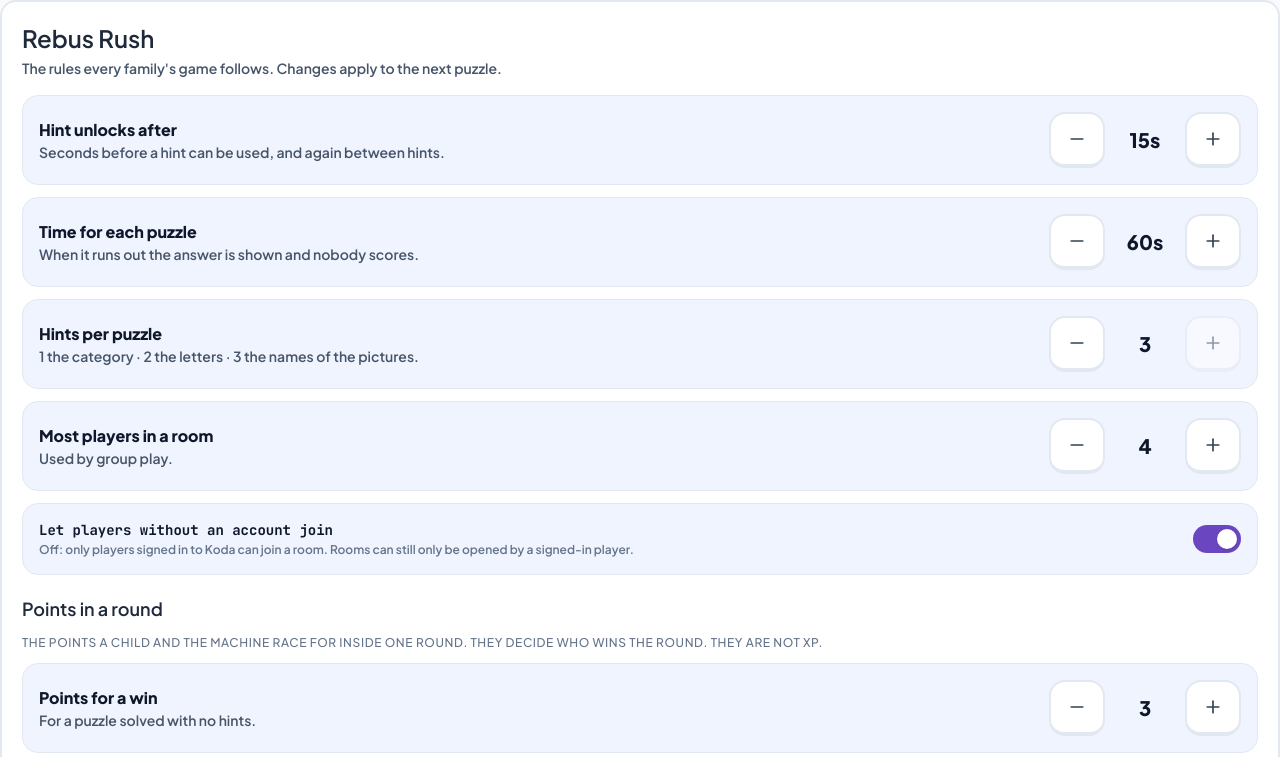
the group play controls and report › lets the owner close the door to guests and saves it
This screenshot has width=1280, height=757.
Click the switch named "Let players without an account join" at (1217, 539), box [1193,525,1241,553]
(page scrolled)
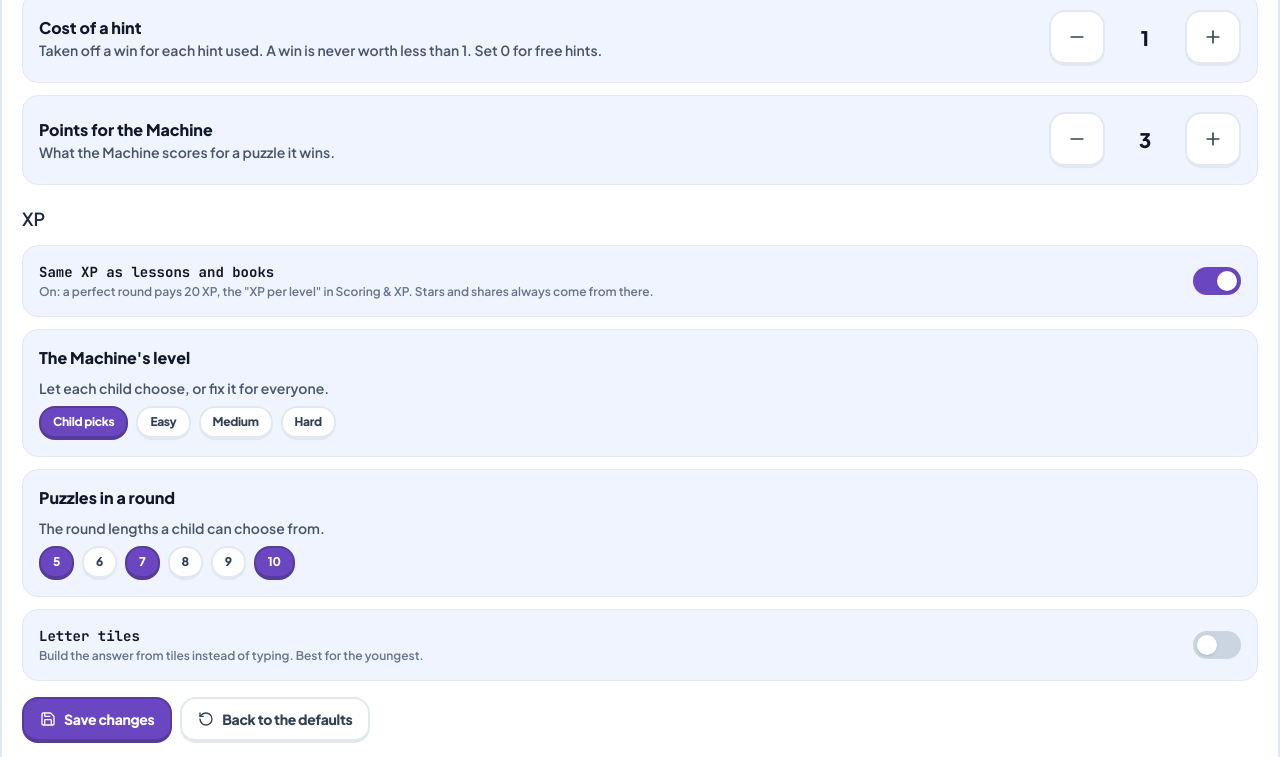
Click the button "Save changes" at (97, 720), box [22,697,172,743]
(page scrolled)
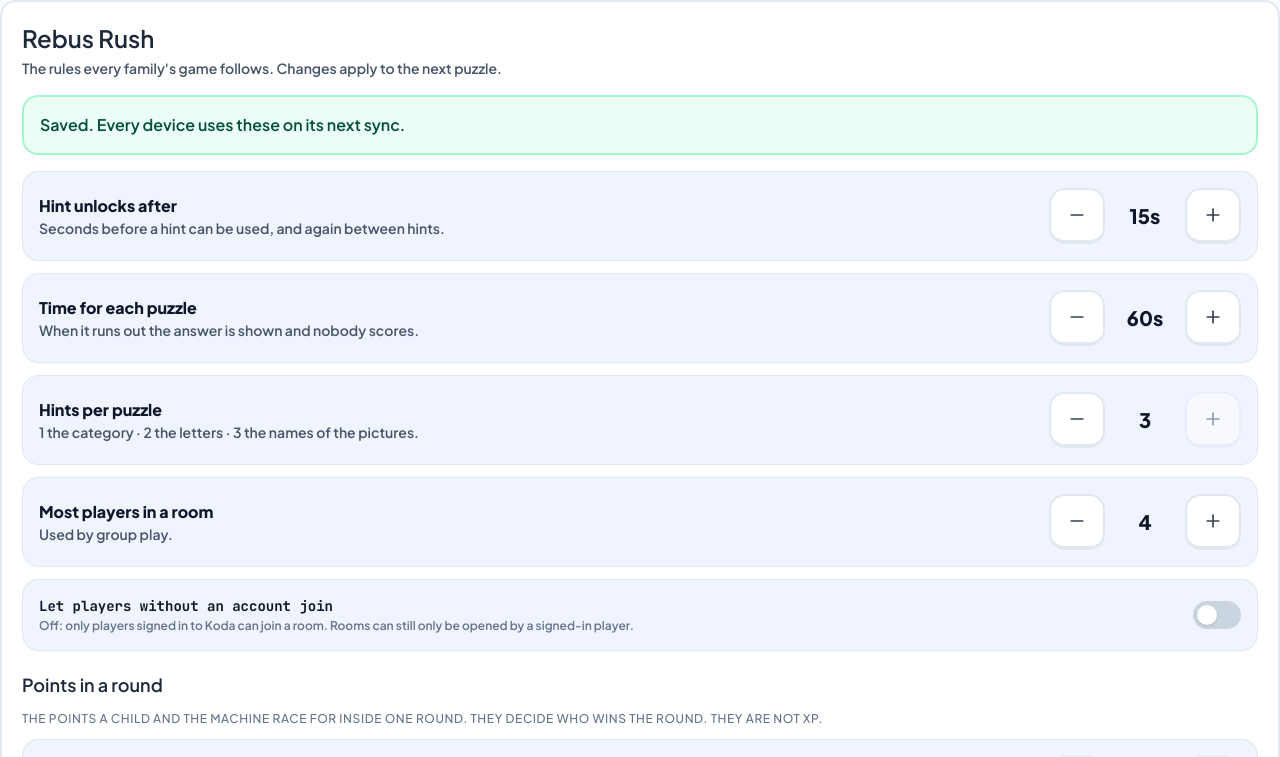
Check: the text "Saved. Every device uses these on its next sync." is shown, box [22,95,1258,155]
